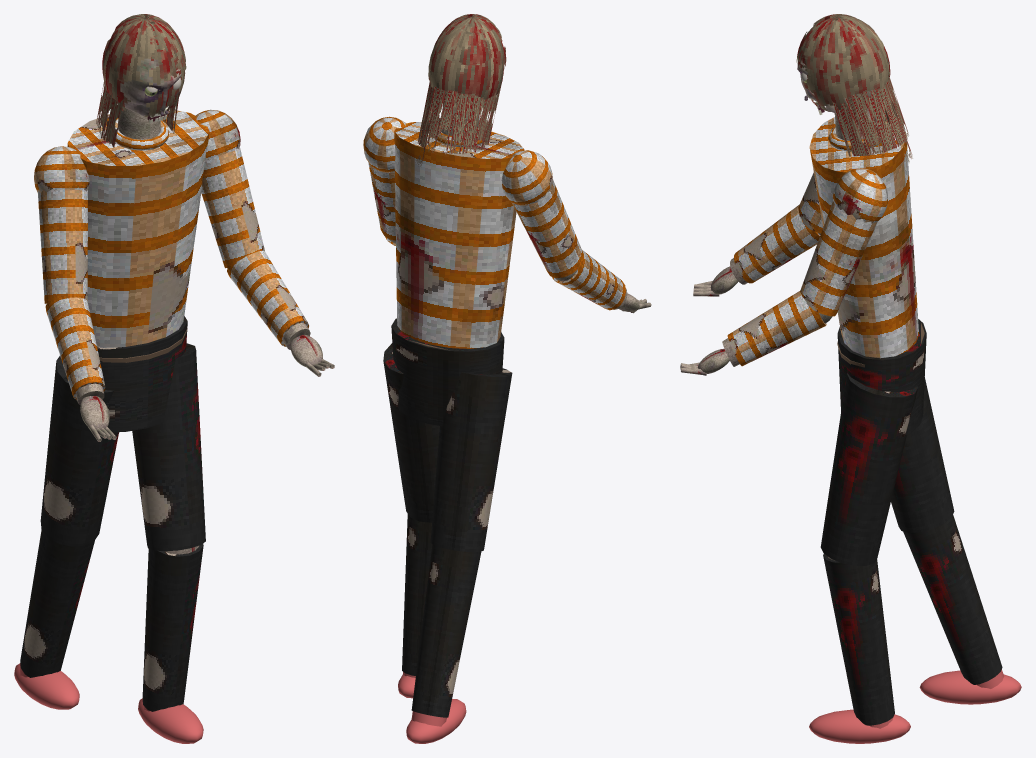
The model's file is Zombie_107.glb.
3 renders of one model, left to right at view 1: azimuth 30°, elevation 25°; view 2: azimuth 150°, elevation 25°; view 3: azimuth 270°, elevation 25°, orthographic. The views are drawn at different scales.
Parts seen in each view (by area): view 1: Zombie_107, object 4, object 12, object 44, object 45, object 18, object 5, object 13, object 55; view 2: Zombie_107, object 45, object 4, object 44, object 52, object 53, object 50, object 51, object 54, object 49; view 3: Zombie_107, object 45, object 12, object 4, object 44, object 47, object 46, object 48, object 49.
Boxes of the visible parts, left/top/right/bottom form: Zombie_107: left=14, top=108, right=264, bottom=743; object 4: left=45, top=297, right=105, bottom=400; object 12: left=227, top=251, right=308, bottom=346; object 44: left=106, top=14, right=186, bottom=85; object 45: left=102, top=15, right=185, bottom=116; object 18: left=120, top=58, right=181, bottom=117; object 5: left=80, top=396, right=109, bottom=429; object 13: left=290, top=334, right=322, bottom=366; object 55: left=101, top=94, right=124, bottom=147; Zombie_107: left=363, top=101, right=583, bottom=743; object 45: left=428, top=17, right=504, bottom=103; object 4: left=552, top=250, right=625, bottom=310; object 44: left=441, top=14, right=506, bottom=69; object 52: left=445, top=91, right=471, bottom=155; object 53: left=459, top=94, right=483, bottom=153; object 50: left=421, top=86, right=448, bottom=152; object 51: left=431, top=90, right=461, bottom=142; object 54: left=469, top=89, right=497, bottom=151; object 49: left=415, top=81, right=436, bottom=166; Zombie_107: left=798, top=108, right=1021, bottom=743; object 45: left=801, top=16, right=890, bottom=111; object 12: left=727, top=291, right=826, bottom=366; object 4: left=734, top=204, right=820, bottom=283; object 44: left=796, top=14, right=859, bottom=75; object 47: left=845, top=92, right=886, bottom=155; object 46: left=832, top=95, right=869, bottom=156; object 48: left=864, top=88, right=896, bottom=153; object 49: left=875, top=82, right=912, bottom=165.
Size of the model in its own units: 0.679 by 2.05 by 0.8963.
16 materials, 6 textured.
